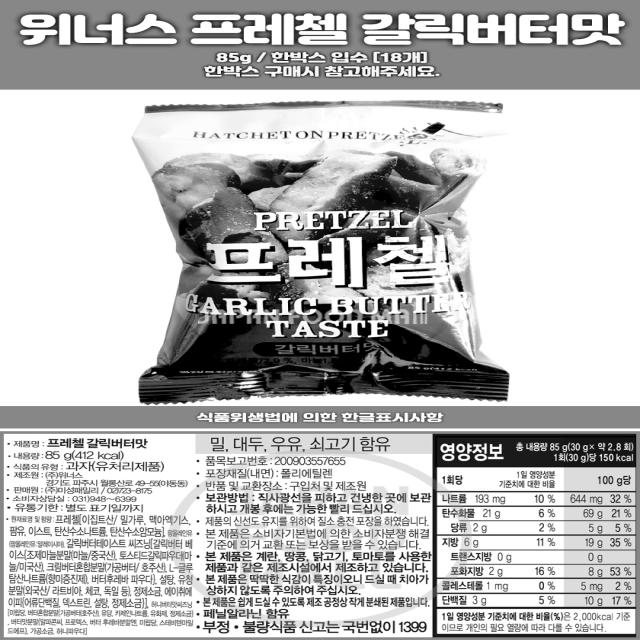Nutrition Label: (423, 428, 640, 639)
